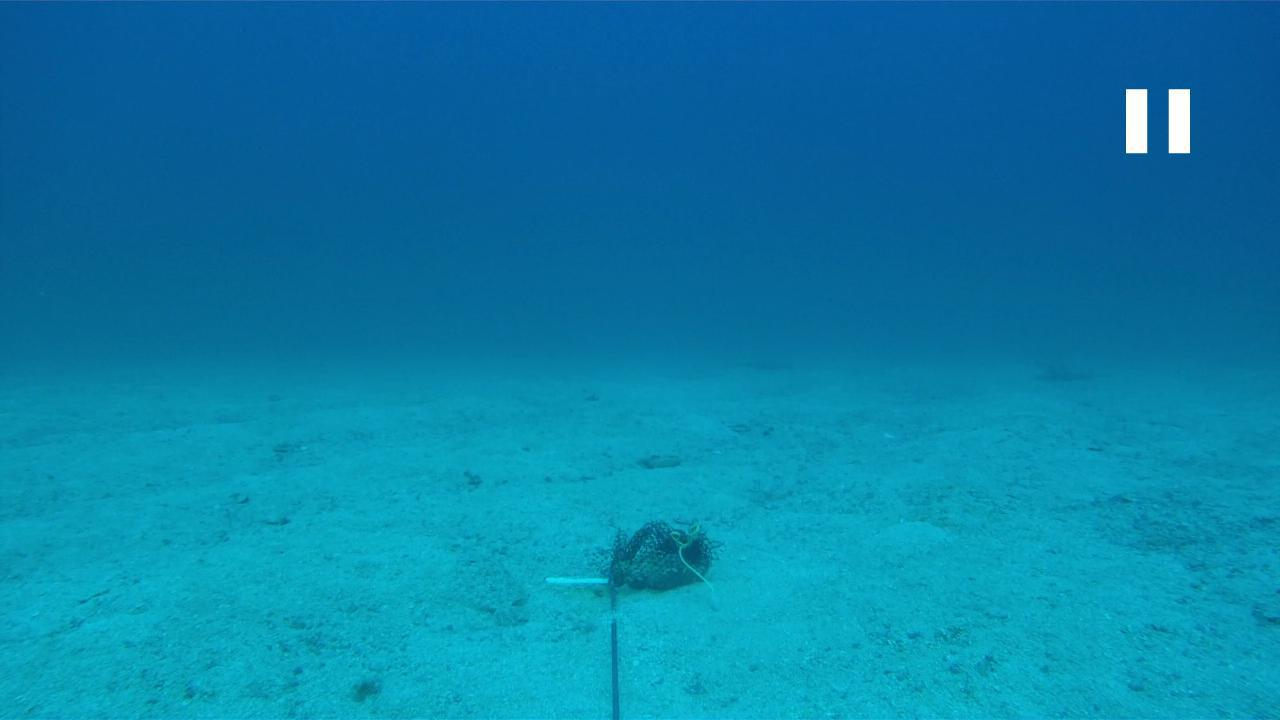bothus: (442, 554, 536, 629)
